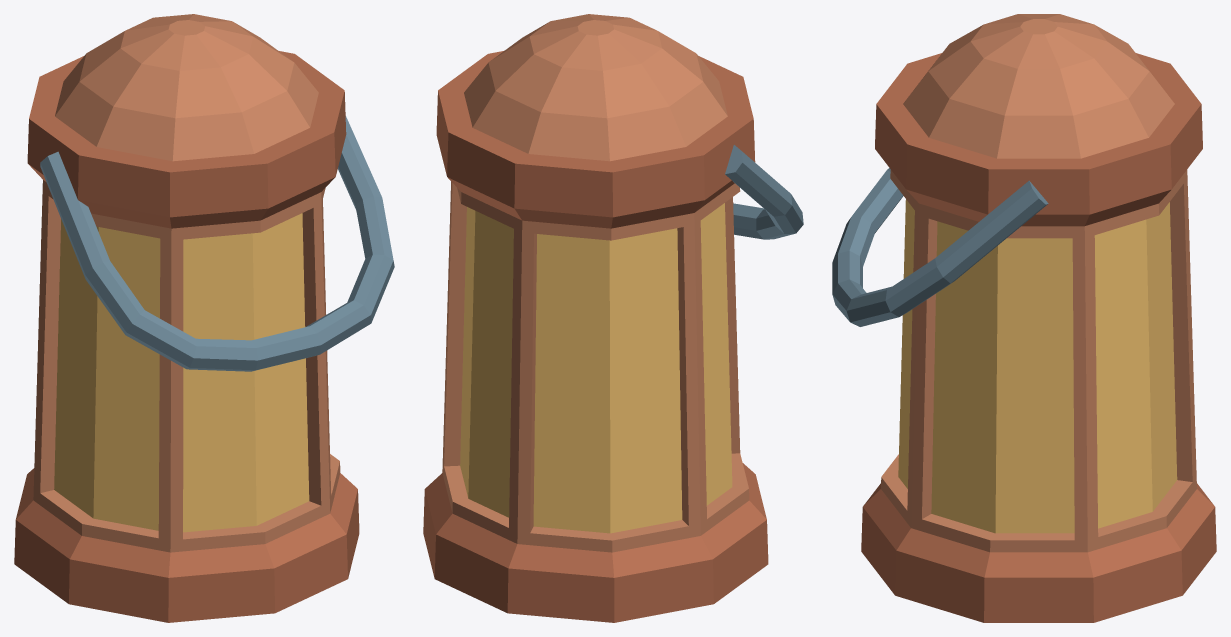
The model's file is Lantern_Hand.fbx.
3 views of the same model, side by side, from view 1: azimuth 30°, elevation 25°; view 2: azimuth 150°, elevation 25°; view 3: azimuth 270°, elevation 25° (orthographic).
Parts seen in each view (by area): view 1: Lantern_Hand; view 2: Lantern_Hand; view 3: Lantern_Hand.
Boxes of the visible parts, x1,y1,x2,y2 form: Lantern_Hand: [14, 14, 394, 622]; Lantern_Hand: [423, 14, 803, 622]; Lantern_Hand: [832, 14, 1216, 622].
Size of the model in its own units: 0.2104 by 0.2336 by 0.3519.
